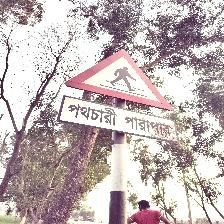Pedestrian-crossing: (58, 49, 177, 140)
